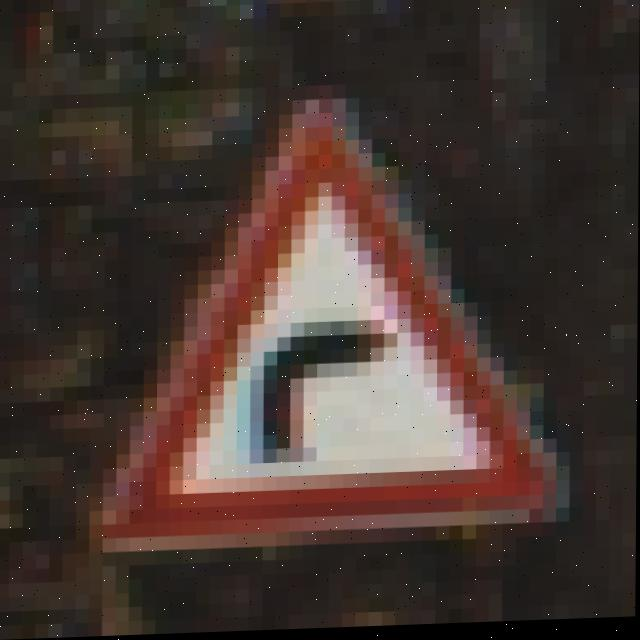right_turn: (91, 71, 571, 543)
